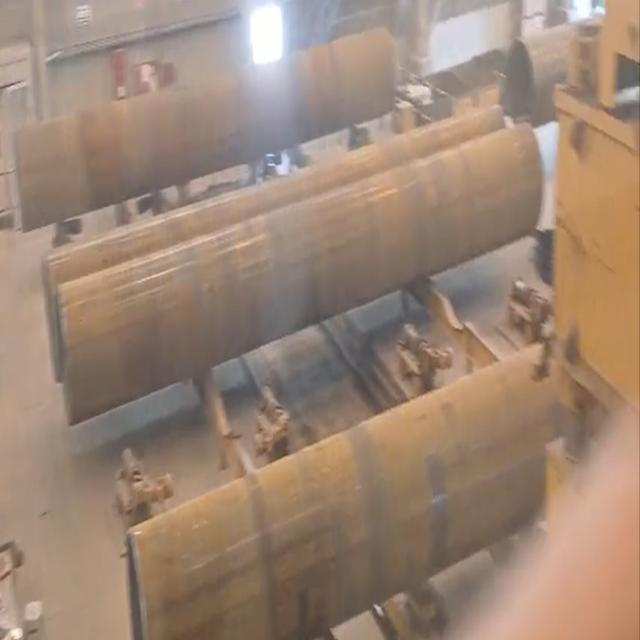warningzone: (191, 270, 536, 481)
